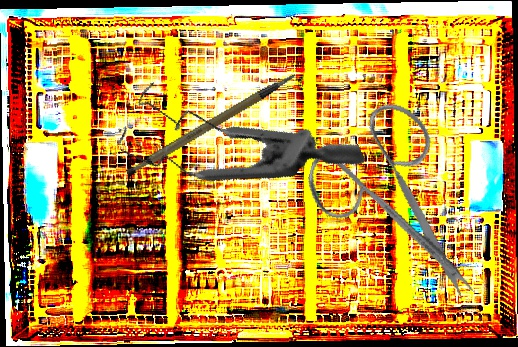Iris Scissors: (287, 86, 518, 305)
Scalpel Handle: (115, 72, 309, 181)
Speculum: (101, 16, 366, 251)
